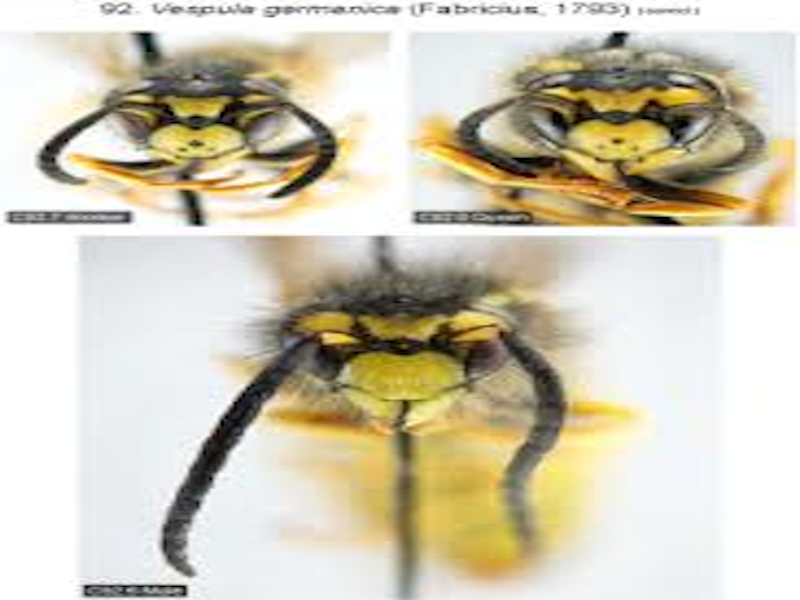chax: (218, 271, 619, 557), (443, 42, 784, 206), (26, 48, 351, 185)
